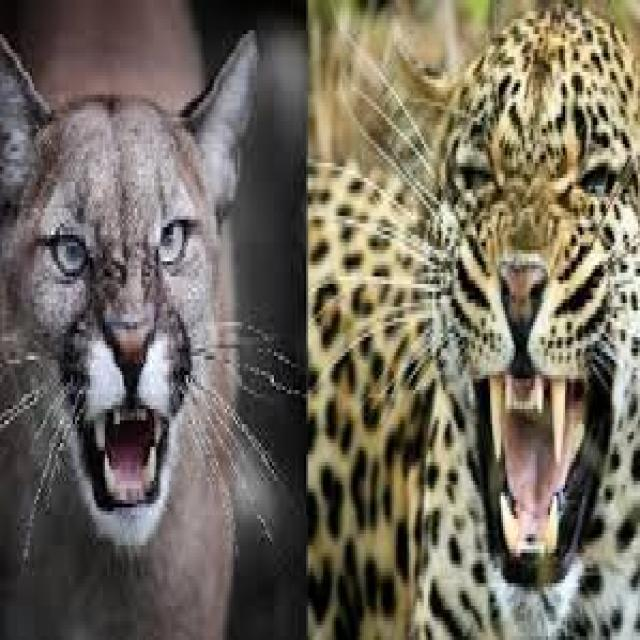Jaguar: (338, 4, 640, 640)
